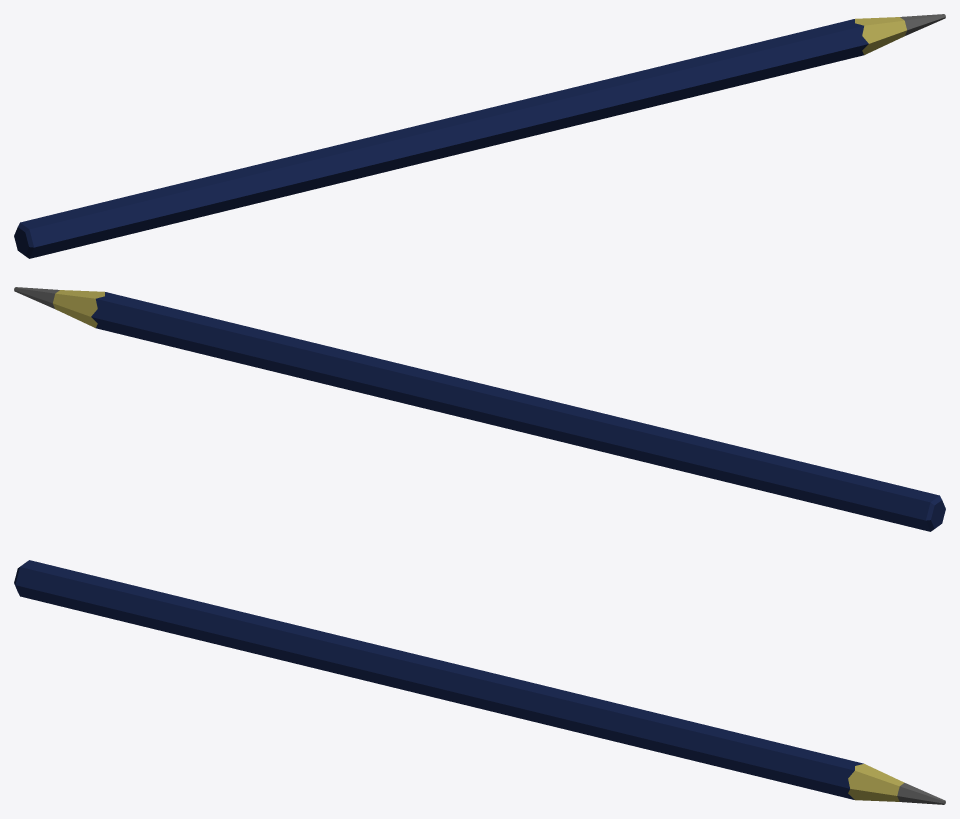
The model's file is pencilShortLong.fbx.
The picture shows the model from 3 angles, top to bottom: view 1: azimuth 30°, elevation 25°; view 2: azimuth 150°, elevation 25°; view 3: azimuth 330°, elevation 25°; orthographic projection.
Visible parts, largest first — view 1: Cylinder, Cylinder.002; view 2: Cylinder, Cylinder.002; view 3: Cylinder, Cylinder.002, Cylinder.001.
Boxes of the visible parts, x1,y1,x2,y2 form: Cylinder: (14, 19, 868, 258); Cylinder.002: (855, 17, 906, 54); Cylinder: (91, 292, 945, 531); Cylinder.002: (53, 290, 104, 327); Cylinder: (14, 560, 863, 799); Cylinder.002: (848, 763, 904, 801); Cylinder.001: (897, 783, 945, 804).
Size of the model in its own units: 27.06 by 0.8275 by 0.9555.
